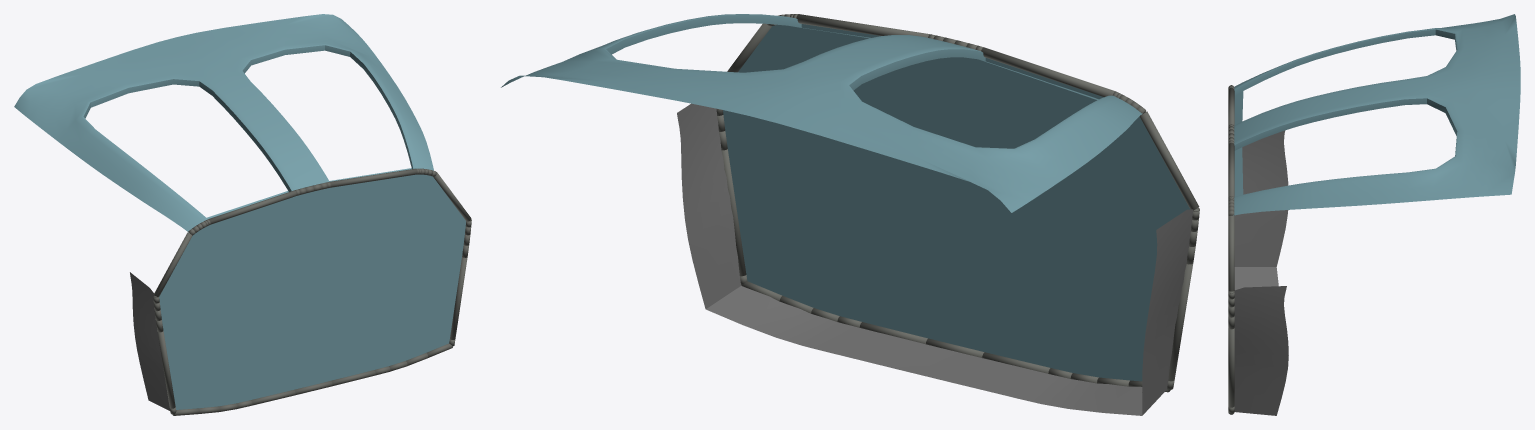
The model's file is PART_008_ShortenedFrontHood.glb.
3 views of the same model, side by side, from view 1: azimuth 30°, elevation 25°; view 2: azimuth 150°, elevation 25°; view 3: azimuth 270°, elevation 25° (orthographic). The views are drawn at different scales.
Visible parts, largest first — view 1: BODY_CutFrontApron, BODY_BajaShortHood_B_Body_Hood_Front_0, BODY_BajaShortHood_B_Body_Nose_Front_1, TRIM_HoodEdge_21, TRIM_HoodEdge_14, TRIM_HoodEdge_34, TRIM_HoodEdge_1, TRIM_HoodEdge_28; view 2: BODY_CutFrontApron, BODY_BajaShortHood_B_Body_Hood_Front_0, BODY_BajaShortHood_B_Body_Nose_Front_1, TRIM_HoodEdge_21, TRIM_HoodEdge_14, TRIM_HoodEdge_28, TRIM_HoodEdge_34, TRIM_HoodEdge_1; view 3: BODY_BajaShortHood_B_Body_Hood_Front_0, BODY_BajaShortHood_B_Body_Nose_Front_1, BODY_BajaShortHood_B_Body_Nose_Front_0, TRIM_HoodEdge_1, TRIM_HoodEdge_7, TRIM_HoodEdge_14.
Part boxes in pixels (x1,y1,x2,y2): BODY_CutFrontApron: [159, 174, 465, 409]; BODY_BajaShortHood_B_Body_Hood_Front_0: [14, 14, 433, 232]; BODY_BajaShortHood_B_Body_Nose_Front_1: [130, 272, 169, 410]; TRIM_HoodEdge_21: [208, 190, 296, 224]; TRIM_HoodEdge_14: [329, 168, 417, 187]; TRIM_HoodEdge_34: [157, 331, 175, 408]; TRIM_HoodEdge_1: [450, 257, 467, 339]; TRIM_HoodEdge_28: [153, 232, 192, 296]; BODY_CutFrontApron: [723, 24, 1190, 381]; BODY_BajaShortHood_B_Body_Hood_Front_0: [501, 14, 1142, 212]; BODY_BajaShortHood_B_Body_Nose_Front_1: [677, 103, 1193, 415]; TRIM_HoodEdge_21: [981, 47, 1115, 97]; TRIM_HoodEdge_14: [796, 14, 929, 37]; TRIM_HoodEdge_28: [1140, 111, 1199, 210]; TRIM_HoodEdge_34: [1168, 263, 1193, 381]; TRIM_HoodEdge_1: [721, 149, 746, 276]; BODY_BajaShortHood_B_Body_Hood_Front_0: [1233, 14, 1520, 215]; BODY_BajaShortHood_B_Body_Nose_Front_1: [1234, 130, 1288, 415]; BODY_BajaShortHood_B_Body_Nose_Front_0: [1234, 91, 1243, 196]; TRIM_HoodEdge_1: [1228, 328, 1234, 407]; TRIM_HoodEdge_7: [1228, 215, 1234, 291]; TRIM_HoodEdge_14: [1228, 142, 1234, 197].
Bounding box in the file's own units: 1.15 × 0.8342 × 0.8134.
